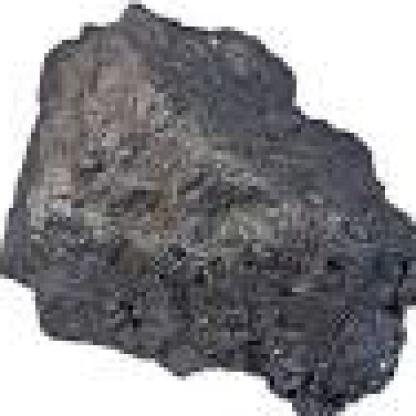Sedimentary_coal: (4, 0, 416, 412)
